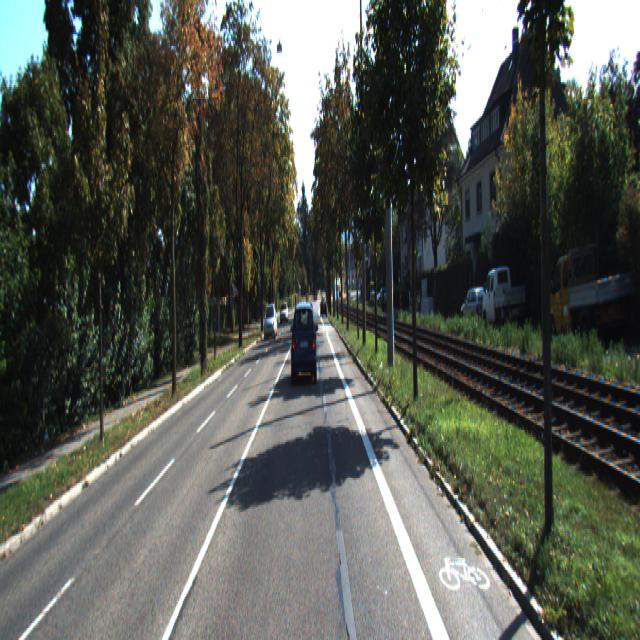Car: (546, 240, 633, 346), (482, 262, 526, 325), (292, 299, 318, 386), (460, 285, 490, 326), (264, 303, 277, 340)
